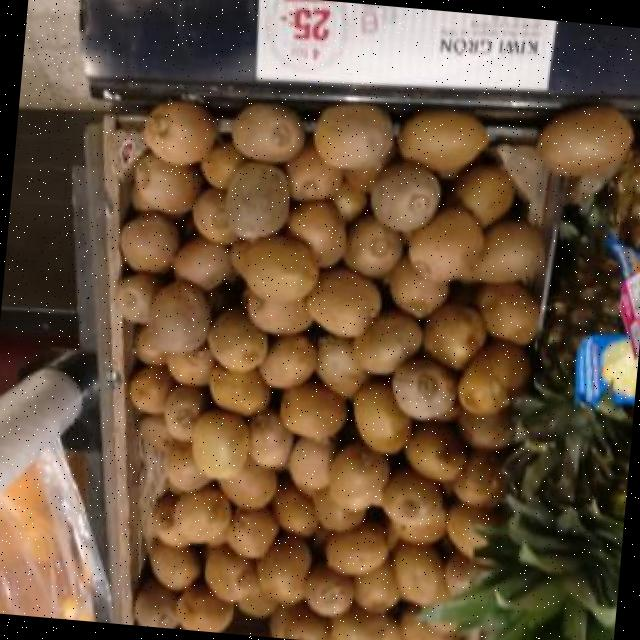kiwi: (537, 104, 632, 172), (397, 108, 486, 177), (458, 337, 529, 414), (409, 207, 482, 281), (305, 266, 380, 337), (313, 102, 392, 169), (224, 160, 289, 239), (369, 161, 440, 231), (243, 234, 317, 299), (148, 279, 210, 353), (143, 99, 214, 162), (470, 219, 542, 281), (352, 309, 421, 373), (352, 380, 410, 453), (131, 152, 200, 213), (422, 302, 485, 368), (328, 442, 389, 510), (190, 409, 248, 479), (232, 102, 303, 159), (390, 357, 455, 419), (255, 533, 311, 604), (287, 199, 345, 267), (475, 282, 538, 344), (453, 163, 513, 226), (207, 308, 266, 370), (387, 256, 447, 316), (281, 380, 344, 437), (119, 211, 177, 271), (343, 215, 400, 276), (406, 421, 464, 480), (392, 542, 447, 603), (173, 484, 230, 542), (381, 468, 440, 523), (315, 334, 367, 396), (285, 144, 342, 199), (173, 237, 232, 289), (208, 364, 269, 414), (245, 289, 311, 334), (328, 521, 384, 574), (218, 456, 275, 508), (258, 333, 315, 385), (446, 503, 499, 557), (204, 544, 255, 600), (451, 449, 501, 506), (176, 583, 232, 632), (247, 407, 292, 467), (147, 539, 199, 589), (225, 507, 277, 557), (305, 562, 353, 615), (192, 187, 237, 243), (353, 560, 399, 611), (331, 606, 400, 640), (113, 272, 159, 323), (289, 436, 333, 489), (162, 385, 204, 440), (164, 442, 210, 492), (273, 483, 317, 535), (457, 409, 513, 448), (199, 141, 244, 189), (128, 365, 173, 413), (312, 488, 363, 530), (134, 578, 176, 628), (270, 603, 326, 640), (151, 493, 189, 546), (391, 506, 445, 542), (166, 345, 214, 382), (399, 608, 453, 640), (331, 181, 366, 221), (138, 414, 173, 451), (236, 586, 277, 617), (135, 325, 165, 364)
